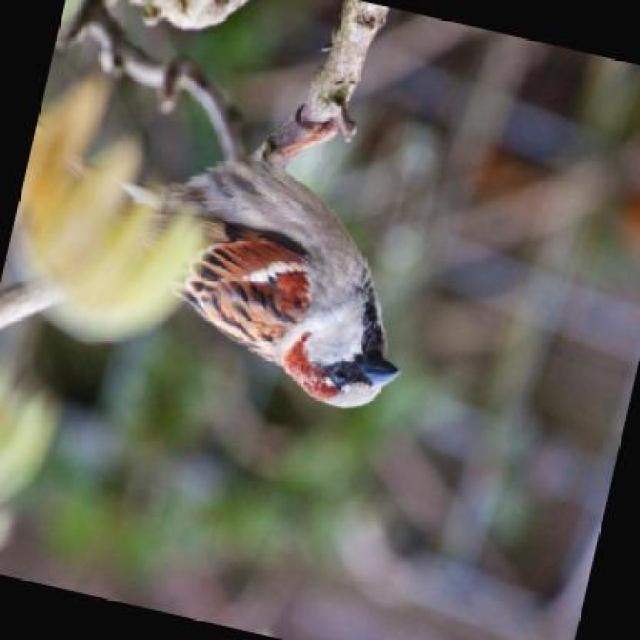sparrow: (144, 142, 438, 418)
